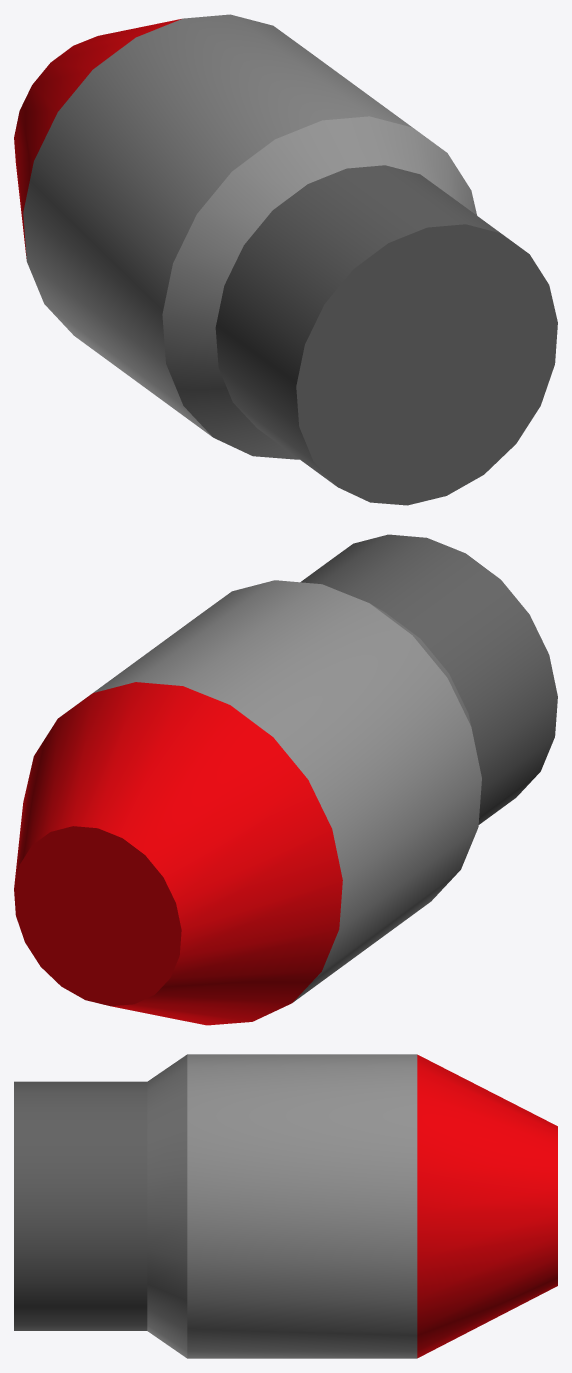
Rendered from RPGTopL.fbx.
3 renders of one model, top to bottom at view 1: azimuth 30°, elevation 25°; view 2: azimuth 150°, elevation 25°; view 3: azimuth 270°, elevation 25°, orthographic. The views are drawn at different scales.
Parts seen in each view (by area): view 1: RPGTopL; view 2: RPGTopL; view 3: RPGTopL.
Part boxes in pixels (bbox=[...]): RPGTopL: bbox=[14, 14, 557, 505]; RPGTopL: bbox=[14, 534, 557, 1025]; RPGTopL: bbox=[14, 1054, 557, 1358].
Size of the model in its own units: 9.57 by 9.54 by 17.07.
